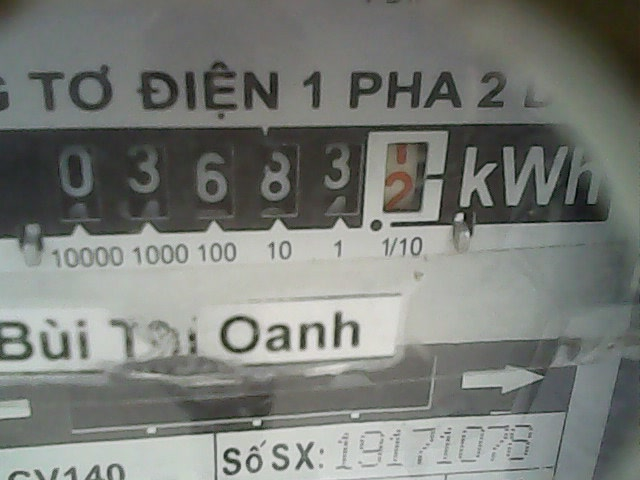phy_plate: (31, 123, 454, 234)
